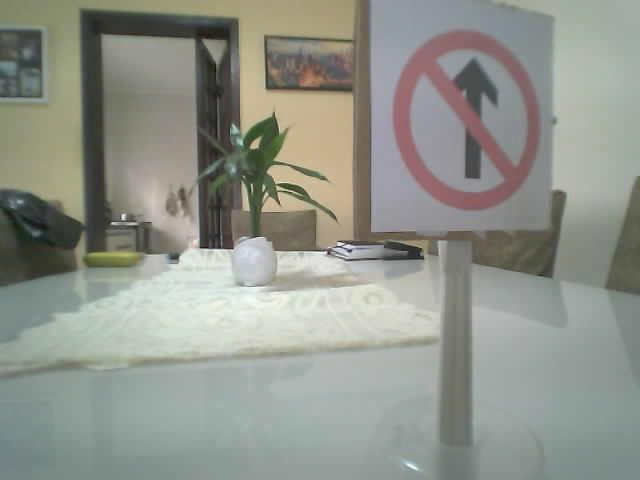R-3_sentido-proibido: (391, 29, 539, 210)
